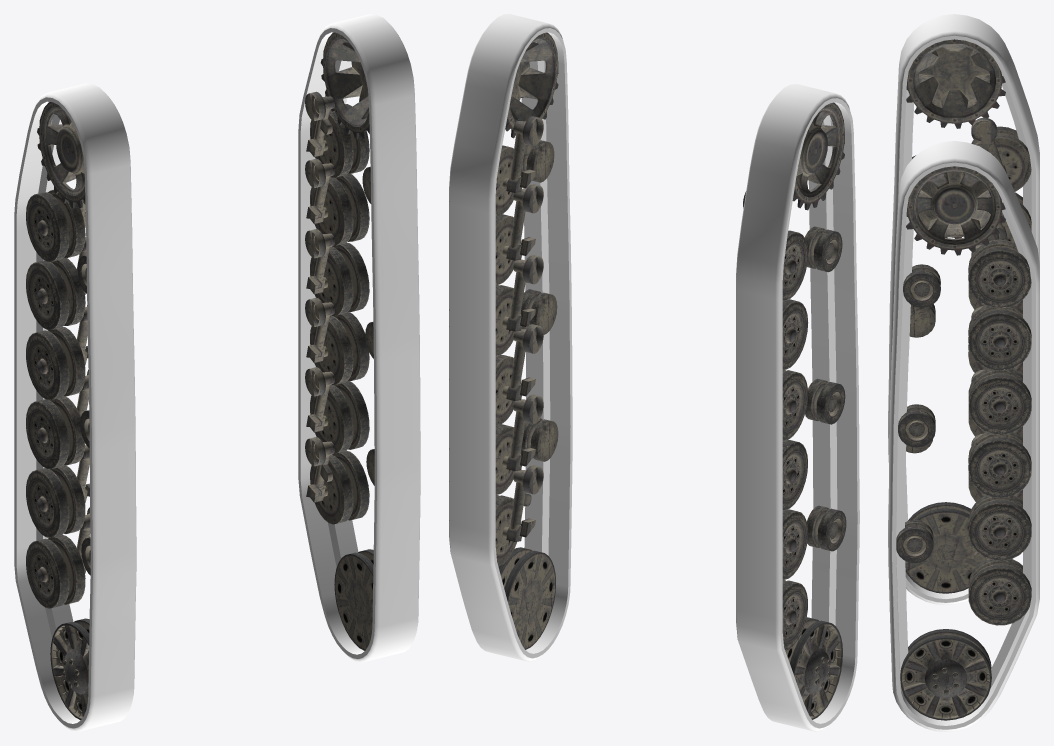
File: Chassis.glb
3 views of the same model, side by side, from view 1: azimuth 30°, elevation 25°; view 2: azimuth 150°, elevation 25°; view 3: azimuth 270°, elevation 25° (orthographic). The views are drawn at different scales.
Parts seen in each view (by area): view 1: set_0_group_0, set_1_group_0, set_3_group_0, set_2_group_0; view 2: set_0_group_0, set_1_group_0, set_3_group_0, set_2_group_0; view 3: set_3_group_0, set_1_group_0, set_2_group_0, set_0_group_0.
Boxes of the visible parts, x1,y1,x2,y2 form: set_0_group_0: (14, 83, 136, 731); set_1_group_0: (298, 14, 420, 662); set_3_group_0: (305, 32, 374, 650); set_2_group_0: (26, 102, 90, 720); set_0_group_0: (736, 84, 859, 731); set_1_group_0: (449, 14, 572, 661); set_3_group_0: (495, 32, 558, 649); set_2_group_0: (743, 102, 846, 719); set_3_group_0: (896, 166, 1031, 720); set_1_group_0: (888, 141, 1039, 731); set_2_group_0: (905, 39, 1031, 593); set_0_group_0: (888, 14, 1039, 604).
Size of the model in its own units: 2.83 by 5.18 by 1.24.
Materials: 4 (2 with a texture image).
